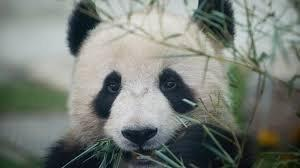bear: (42, 0, 258, 168)
